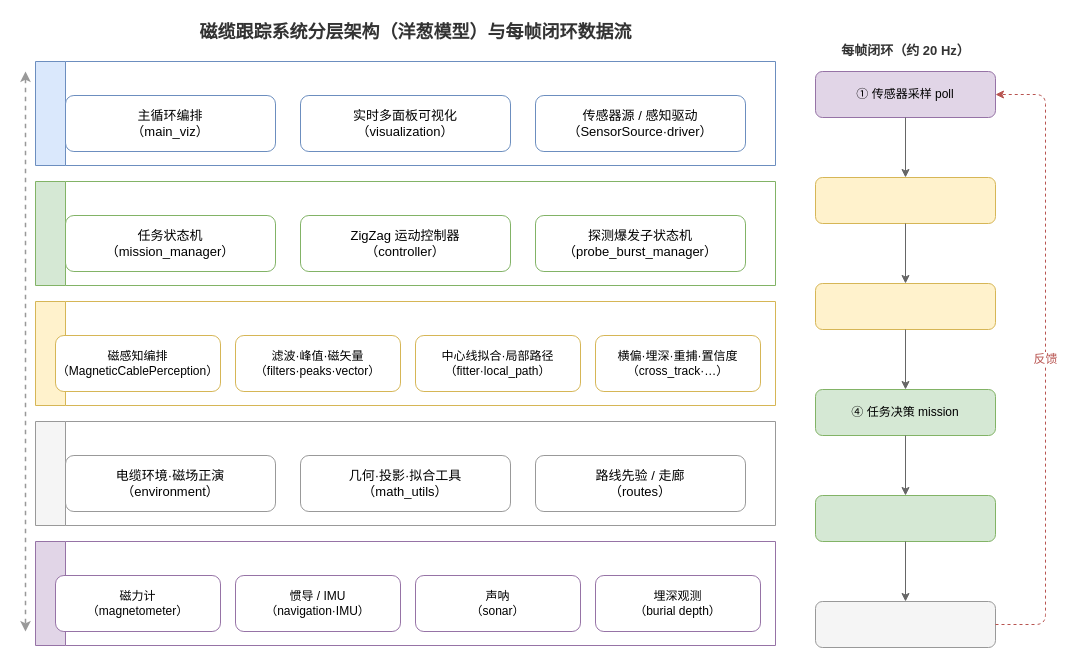
Image size: 1075x665. Some labels were removed from this diagram. Each missing label, with the box of its shape:
② 信号特征 signal_driver: (814, 176, 996, 224)
③ 感知更新 perception: (814, 282, 996, 330)
⑤ 控制指令 controller: (814, 494, 996, 542)
⑥ 载体推进 backend: (814, 600, 996, 648)
传感器模拟层: (34, 540, 776, 646)
可视化 / 编排层: (34, 60, 776, 166)
感知融合层: (34, 300, 776, 406)
控制决策层: (34, 180, 776, 286)
环境与物理层: (34, 420, 776, 526)
